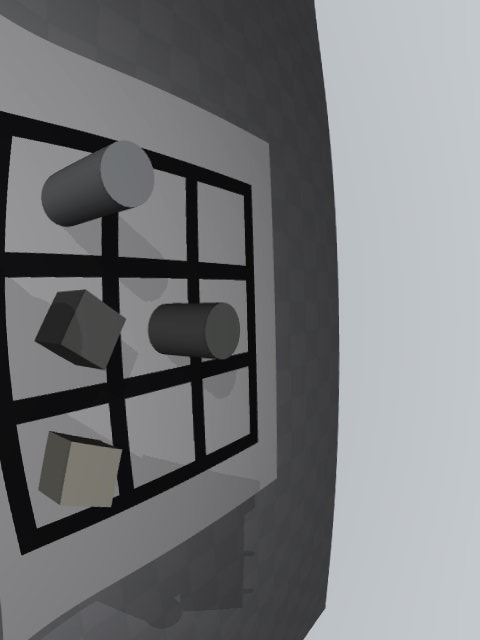can: (41, 140, 154, 227)
cube: (35, 289, 126, 370)
cylinder: (148, 303, 240, 359)
foam: (38, 431, 123, 508)
